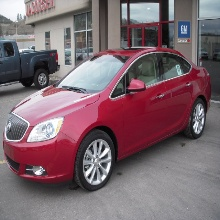no damage: (4, 47, 211, 191), (1, 37, 59, 90)
